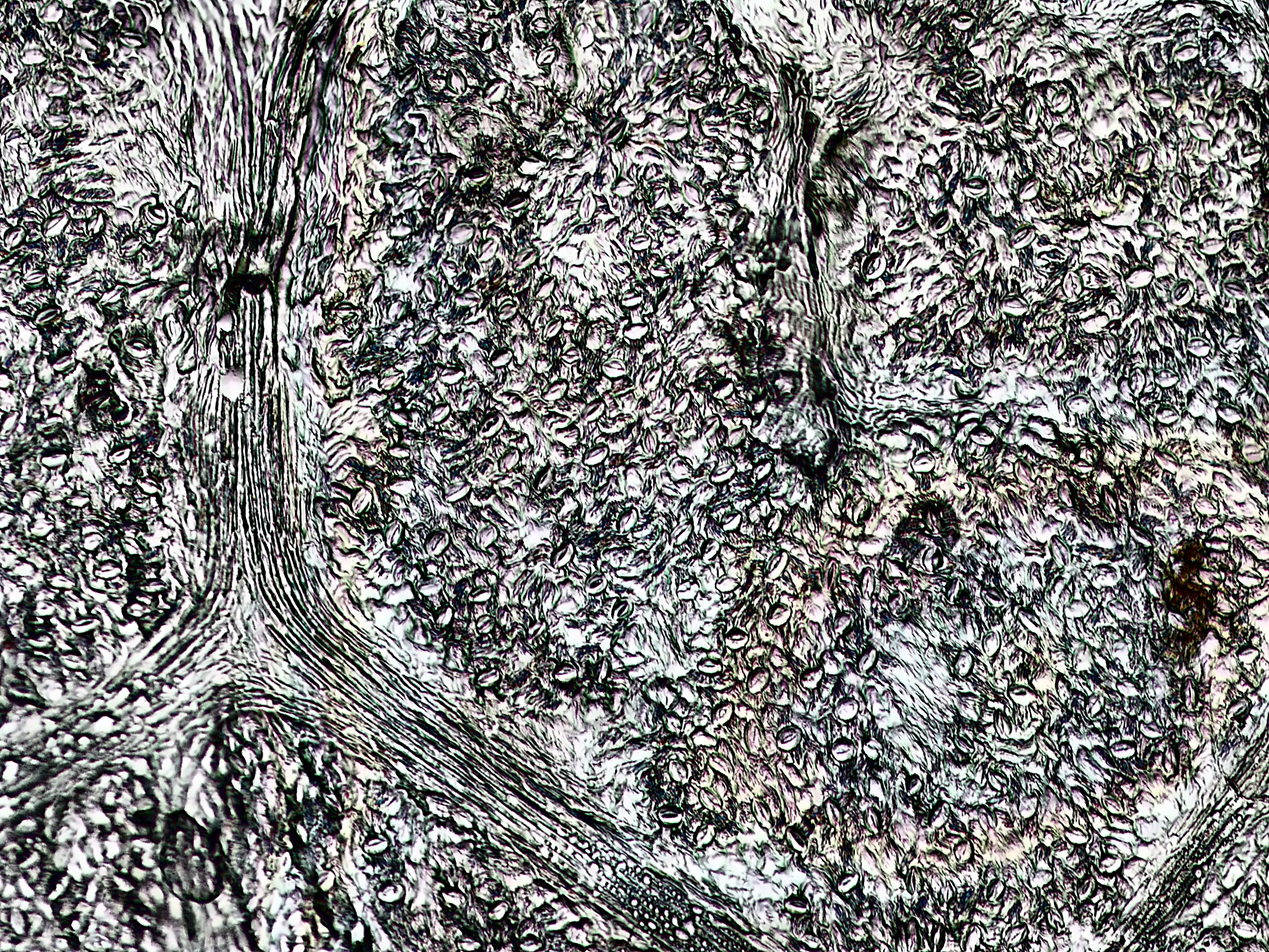stomata: (204, 740, 231, 776), (860, 252, 890, 283), (1151, 315, 1177, 348), (998, 295, 1034, 318), (121, 334, 156, 357), (438, 886, 470, 911), (97, 281, 129, 305), (961, 922, 986, 952), (1102, 173, 1127, 203), (962, 249, 986, 280), (549, 540, 575, 568), (666, 517, 692, 545), (765, 602, 793, 628), (539, 380, 572, 402), (1097, 484, 1119, 517), (927, 801, 951, 831), (922, 167, 946, 197), (750, 796, 773, 827), (1108, 738, 1139, 761), (1050, 534, 1072, 566), (423, 529, 450, 555), (775, 723, 801, 750), (820, 647, 846, 674), (42, 212, 70, 237), (511, 245, 539, 270), (44, 570, 77, 591), (1142, 87, 1175, 108), (359, 833, 389, 856), (503, 190, 533, 213), (662, 119, 692, 142), (1124, 267, 1154, 290), (574, 192, 596, 223), (1065, 393, 1096, 415), (482, 77, 508, 103), (378, 364, 404, 390), (473, 523, 498, 550), (600, 119, 627, 144), (1093, 562, 1120, 587), (1169, 172, 1193, 200), (42, 107, 71, 130), (826, 484, 844, 521), (9, 902, 28, 937), (1126, 364, 1146, 397), (1062, 269, 1083, 300), (396, 69, 422, 94), (1017, 605, 1043, 630), (746, 666, 770, 693), (885, 590, 909, 617), (1050, 123, 1077, 147), (136, 473, 164, 496), (348, 486, 371, 514), (582, 442, 610, 465), (47, 870, 69, 899), (634, 144, 663, 166), (1242, 878, 1264, 907), (1004, 490, 1026, 519), (1059, 167, 1081, 196), (1098, 330, 1120, 359), (93, 558, 123, 579), (163, 312, 184, 342), (376, 882, 406, 903), (823, 797, 844, 827), (1180, 678, 1201, 708), (1161, 741, 1180, 774), (697, 787, 722, 812), (764, 551, 788, 577), (709, 751, 733, 777), (831, 609, 855, 635), (832, 697, 859, 720), (1033, 728, 1056, 755), (966, 472, 993, 495), (1007, 685, 1038, 705), (977, 805, 999, 833), (922, 546, 944, 574), (1208, 161, 1230, 189), (966, 346, 994, 368), (33, 306, 63, 326), (534, 276, 558, 301), (724, 424, 749, 448), (952, 839, 976, 864), (1168, 279, 1193, 303), (477, 414, 503, 437), (723, 628, 749, 651), (1206, 33, 1229, 59), (949, 307, 975, 330), (728, 205, 750, 232), (700, 245, 727, 267), (1019, 97, 1041, 124), (858, 567, 877, 598), (944, 577, 965, 605), (961, 177, 989, 198), (849, 495, 869, 524), (1193, 496, 1222, 516), (985, 286, 1002, 320), (145, 203, 169, 227), (454, 934, 486, 952), (1069, 786, 1093, 810), (1044, 336, 1068, 360), (119, 234, 144, 257), (1238, 569, 1263, 592), (1189, 117, 1214, 140), (1154, 448, 1179, 471), (4, 224, 26, 250), (59, 647, 85, 669), (38, 0, 64, 22), (616, 506, 638, 532), (1009, 227, 1035, 249), (992, 709, 1011, 739), (74, 29, 101, 50), (418, 26, 439, 53), (447, 221, 474, 242), (383, 521, 404, 548), (442, 480, 469, 501), (498, 446, 519, 473), (417, 574, 444, 595), (709, 463, 736, 484), (799, 668, 826, 689), (657, 804, 684, 825), (1044, 905, 1065, 932), (1203, 71, 1224, 98), (1199, 234, 1226, 255), (1155, 405, 1182, 426), (516, 932, 544, 952), (436, 365, 464, 385), (713, 573, 741, 593), (1226, 699, 1254, 719), (526, 619, 549, 643), (834, 738, 857, 762), (710, 701, 733, 725), (668, 454, 692, 477), (554, 663, 579, 685), (583, 572, 608, 594), (535, 466, 557, 491), (975, 520, 1000, 542), (446, 67, 467, 93), (650, 184, 671, 210), (785, 825, 806, 851), (1114, 676, 1140, 697), (954, 651, 975, 677), (1168, 605, 1189, 631), (1142, 575, 1163, 601), (1221, 279, 1247, 300), (1186, 337, 1212, 358), (412, 325, 439, 345), (454, 290, 484, 308), (475, 668, 502, 688), (726, 151, 753, 171), (927, 922, 945, 952), (980, 109, 1007, 129), (1062, 221, 1089, 241), (969, 426, 996, 446), (593, 656, 612, 684), (862, 807, 881, 835), (688, 54, 711, 77), (676, 578, 699, 601), (931, 212, 954, 235), (543, 318, 565, 342), (582, 399, 606, 421), (1102, 794, 1126, 816), (1016, 178, 1040, 200), (635, 61, 656, 86), (763, 510, 784, 535), (1005, 923, 1026, 948), (1155, 367, 1180, 388), (71, 615, 100, 633), (461, 164, 490, 182), (642, 426, 660, 455), (1038, 245, 1067, 263), (624, 321, 650, 341), (670, 389, 690, 415), (901, 324, 927, 344), (29, 519, 56, 538), (27, 631, 54, 650), (957, 66, 984, 85), (747, 718, 763, 750), (428, 402, 451, 424), (530, 16, 554, 37), (476, 238, 497, 262), (333, 298, 357, 319), (682, 181, 703, 205), (720, 511, 744, 532), (668, 758, 689, 782), (693, 823, 714, 847), (52, 352, 77, 372), (857, 647, 877, 672), (988, 767, 1008, 792), (1138, 719, 1163, 739), (1222, 333, 1247, 353), (136, 578, 167, 594), (66, 488, 92, 507), (484, 902, 510, 921), (711, 380, 737, 399), (1132, 147, 1151, 173), (1214, 404, 1240, 423), (1249, 221, 1266, 250), (697, 658, 724, 676), (1173, 44, 1200, 62), (433, 605, 454, 628), (612, 176, 635, 197), (603, 357, 626, 378), (912, 452, 935, 473), (107, 446, 131, 466), (111, 489, 131, 513), (387, 407, 411, 427), (1234, 918, 1258, 938), (1084, 692, 1104, 716), (1015, 458, 1032, 486), (682, 91, 707, 110), (784, 894, 809, 913), (1065, 826, 1090, 845), (980, 586, 1005, 605), (1250, 368, 1269, 393), (32, 600, 58, 618), (387, 443, 413, 461), (467, 585, 493, 603), (985, 631, 1003, 657), (40, 452, 69, 468), (1253, 392, 1269, 421), (535, 45, 557, 66), (495, 299, 516, 321), (699, 416, 721, 437), (1018, 796, 1039, 818), (1127, 524, 1149, 545), (22, 268, 45, 288), (20, 487, 43, 507), (350, 328, 370, 351), (490, 346, 513, 366), (700, 537, 720, 560), (88, 209, 105, 236), (1076, 875, 1095, 899), (952, 12, 976, 31), (276, 850, 294, 875), (822, 559, 837, 589), (923, 502, 937, 534), (596, 67, 617, 88), (612, 599, 634, 619), (642, 367, 662, 389), (748, 460, 770, 480), (620, 289, 643, 308), (836, 871, 859, 890), (908, 866, 923, 895), (986, 878, 1004, 902), (927, 30, 945, 54), (1094, 140, 1112, 164), (1235, 646, 1260, 663), (1050, 90, 1070, 111), (316, 870, 335, 892), (662, 711, 681, 733), (1099, 853, 1121, 872), (81, 532, 104, 550), (478, 28, 496, 51), (428, 169, 446, 192), (936, 881, 954, 904), (388, 300, 408, 320), (671, 17, 691, 37), (1060, 480, 1076, 505), (728, 85, 747, 106), (952, 732, 973, 751), (121, 537, 143, 555), (1070, 457, 1093, 474), (425, 276, 441, 300), (630, 235, 654, 251), (907, 774, 923, 798), (322, 791, 343, 809), (1241, 444, 1262, 462), (568, 121, 585, 143), (1055, 670, 1069, 696), (561, 345, 582, 362), (651, 262, 674, 277), (477, 616, 496, 634), (610, 261, 630, 276), (756, 103, 772, 120), (443, 260, 458, 276), (481, 0, 500, 10)
